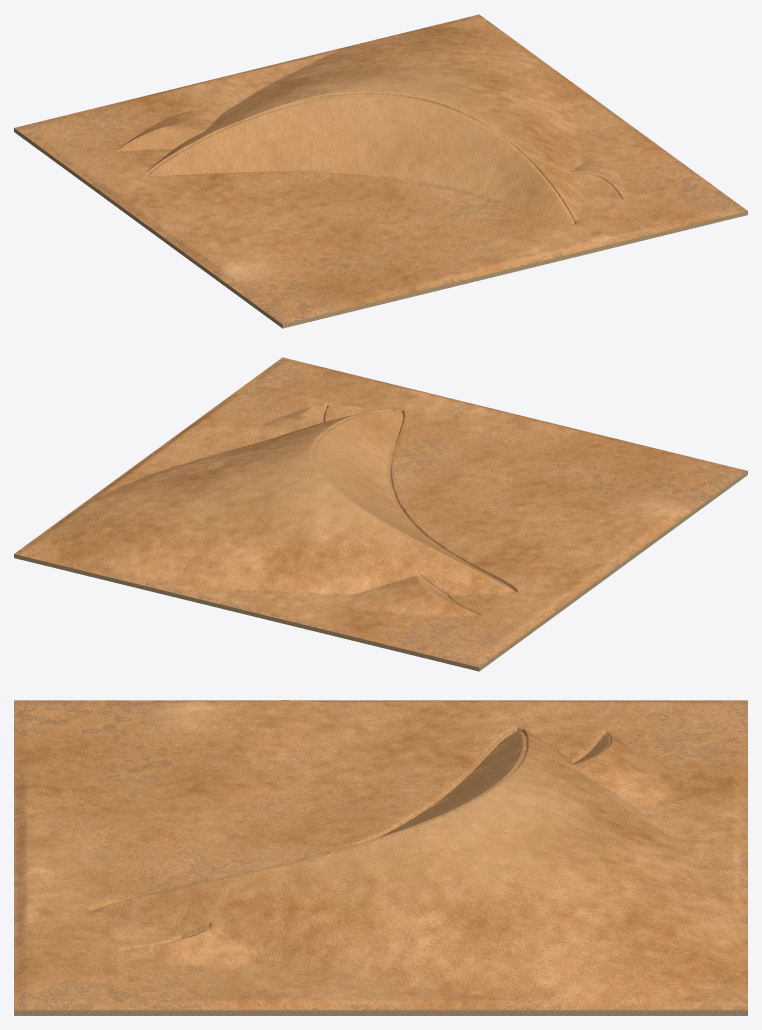
File: dune.glb
The picture shows the model from 3 angles, top to bottom: view 1: azimuth 30°, elevation 25°; view 2: azimuth 150°, elevation 25°; view 3: azimuth 270°, elevation 25°; orthographic projection. The views are drawn at different scales.
Visible parts, largest first — view 1: Wind-rippled dune sand; view 2: Wind-rippled dune sand; view 3: Wind-rippled dune sand.
Part boxes in pixels (x1,y1,x2,y2): Wind-rippled dune sand: [14, 14, 747, 328]; Wind-rippled dune sand: [14, 357, 747, 671]; Wind-rippled dune sand: [14, 700, 747, 1015].
Bounding box in the file's own units: 120 × 13.1 × 120.
Materials: 2 (2 with a texture image).
